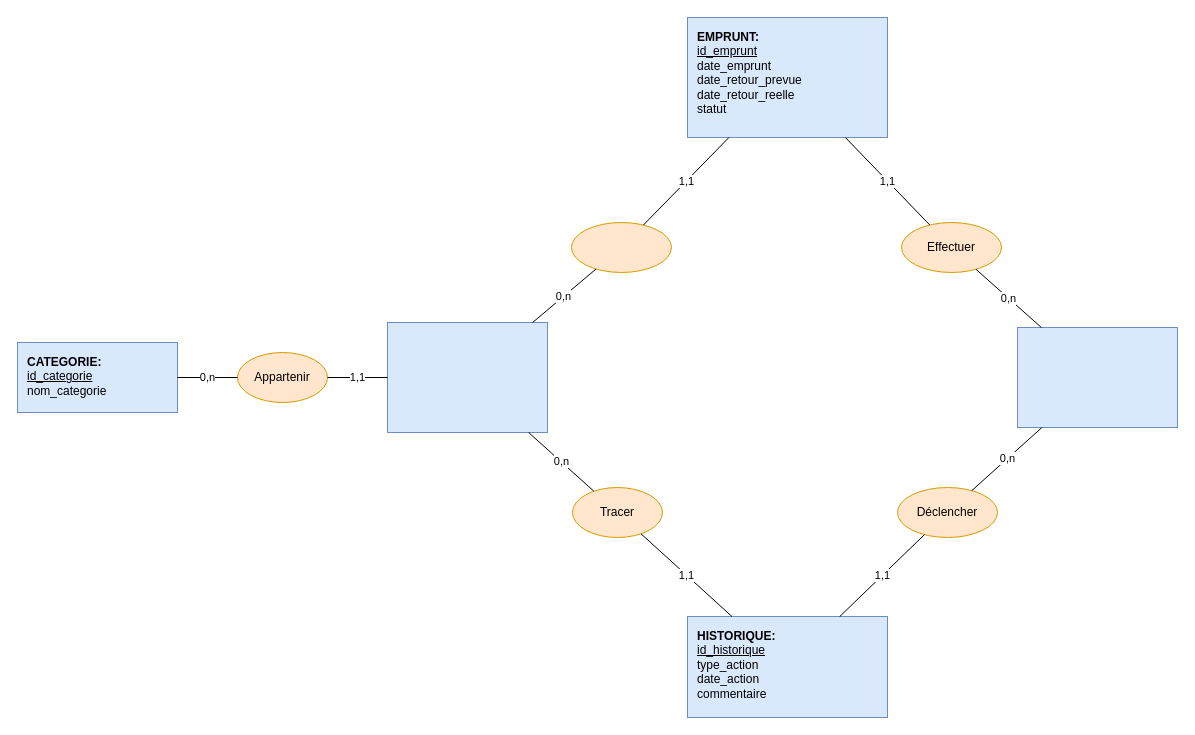
Image size: 1195x735. Some labels were removed from this diagram. Here are the shapes that lost their labels. From the top down, the centre of each, then its label:
At (621,247): "Concerner".
At (467,377): "MATERIEL: id_materiel nom reference description etat".
At (1097,377): "UTILISATEUR: id_utilisateur nom email role".
